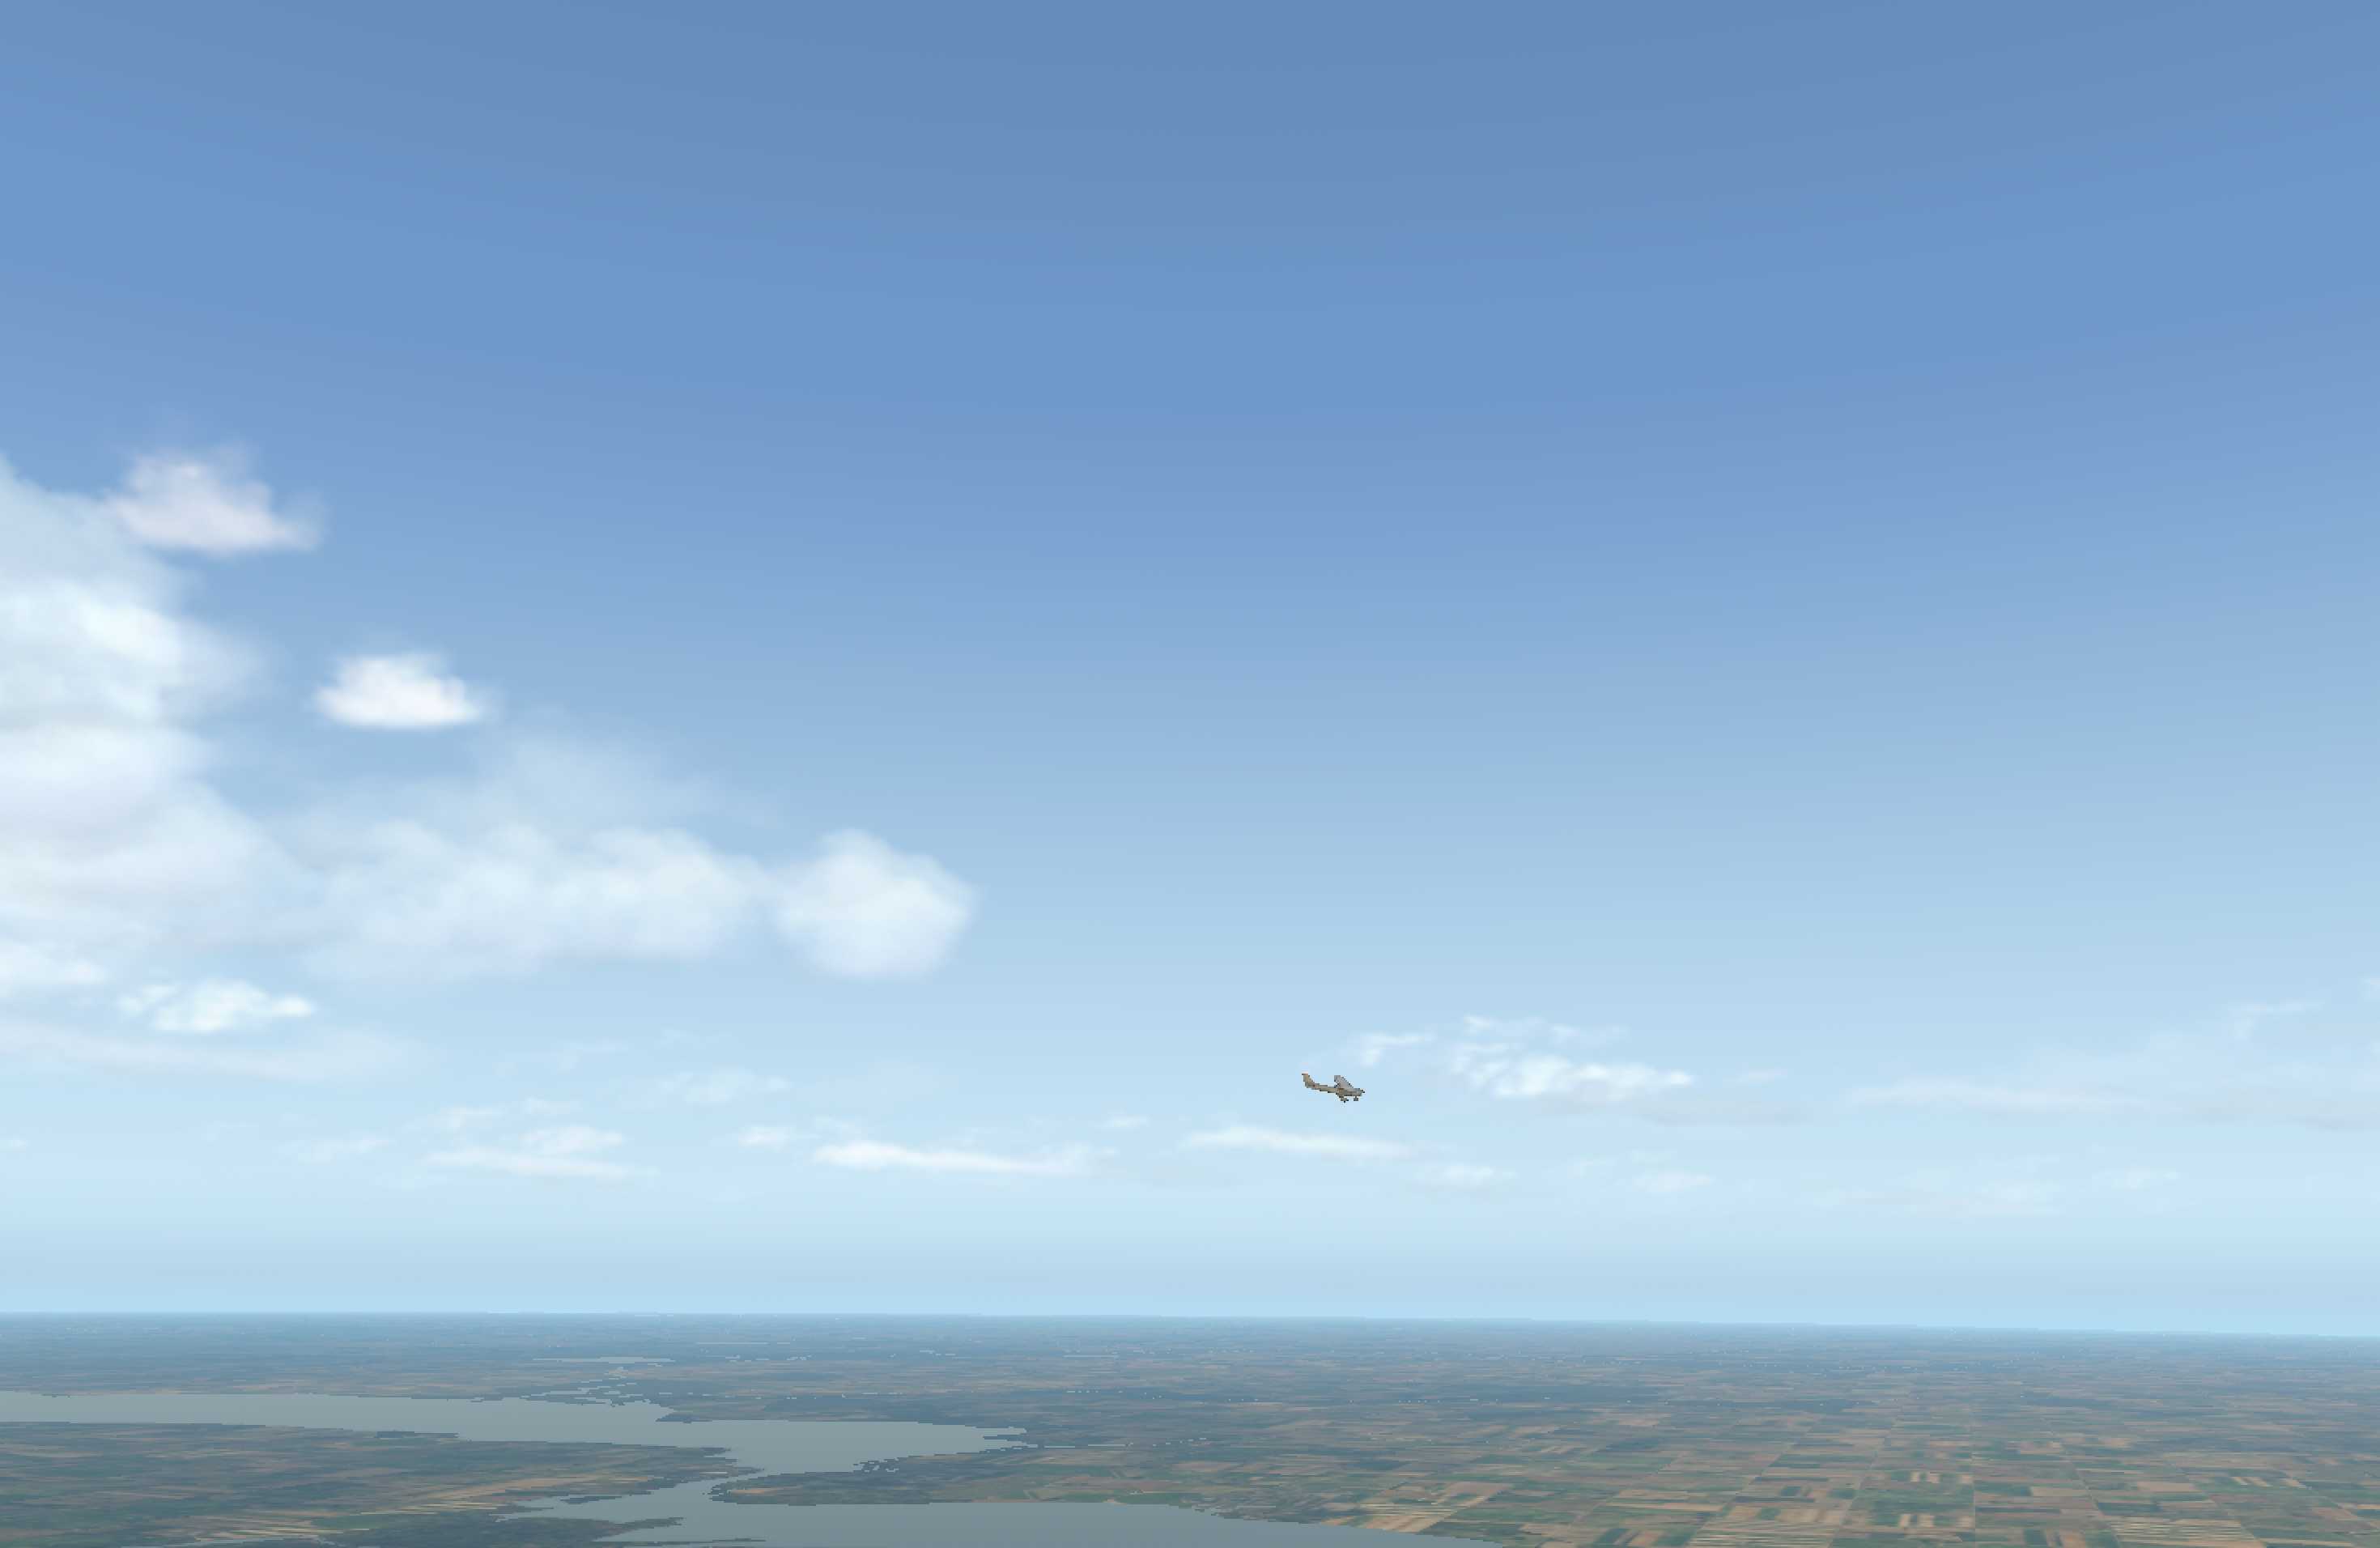aircraft: (1315, 1078, 1377, 1102)
